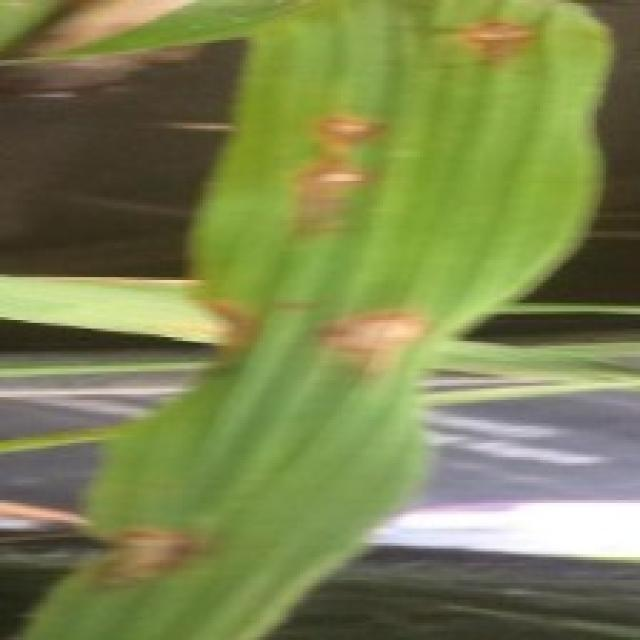Unhealthy: (275, 110, 398, 249), (296, 303, 444, 394), (186, 292, 271, 378), (74, 523, 194, 583), (452, 11, 550, 71)
